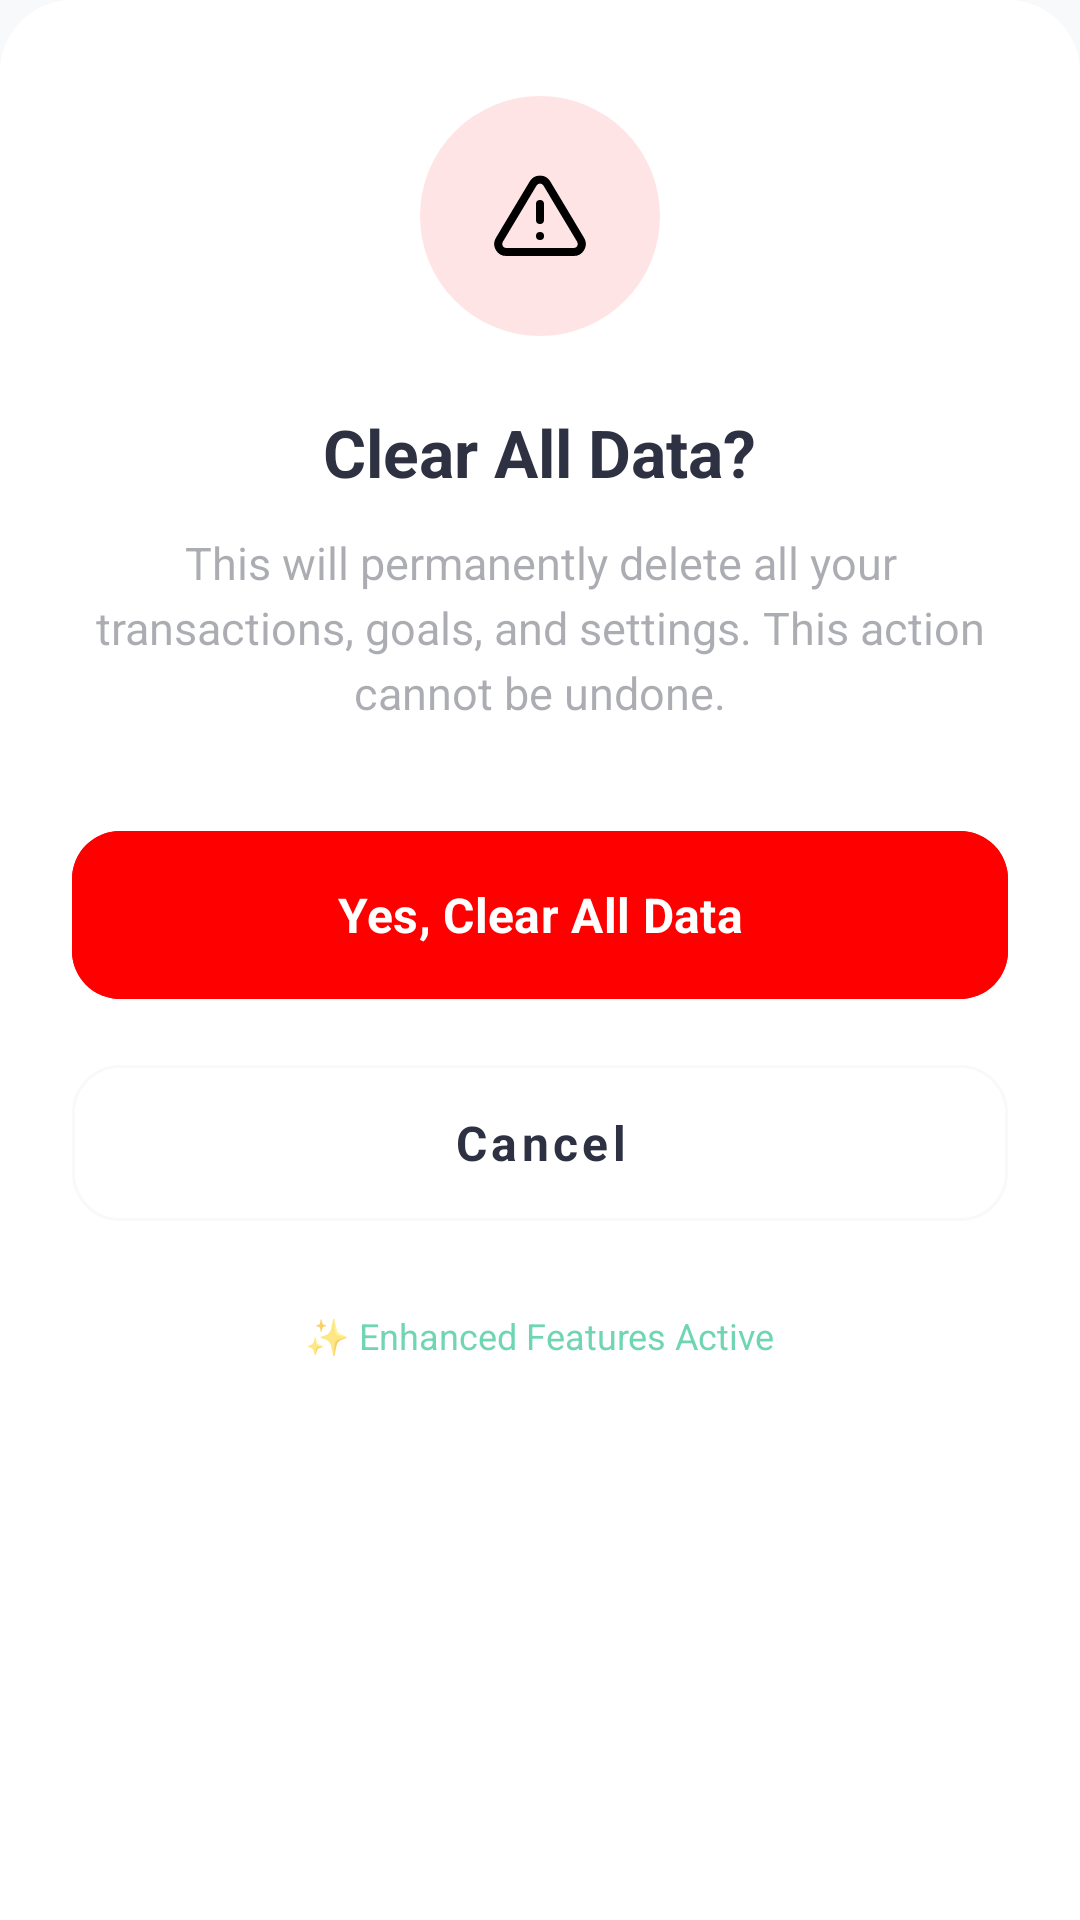

Icon click points for this 1080px x 1920px phone screenshot, format (x=x, y=y):
warning: (x=540, y=215)
